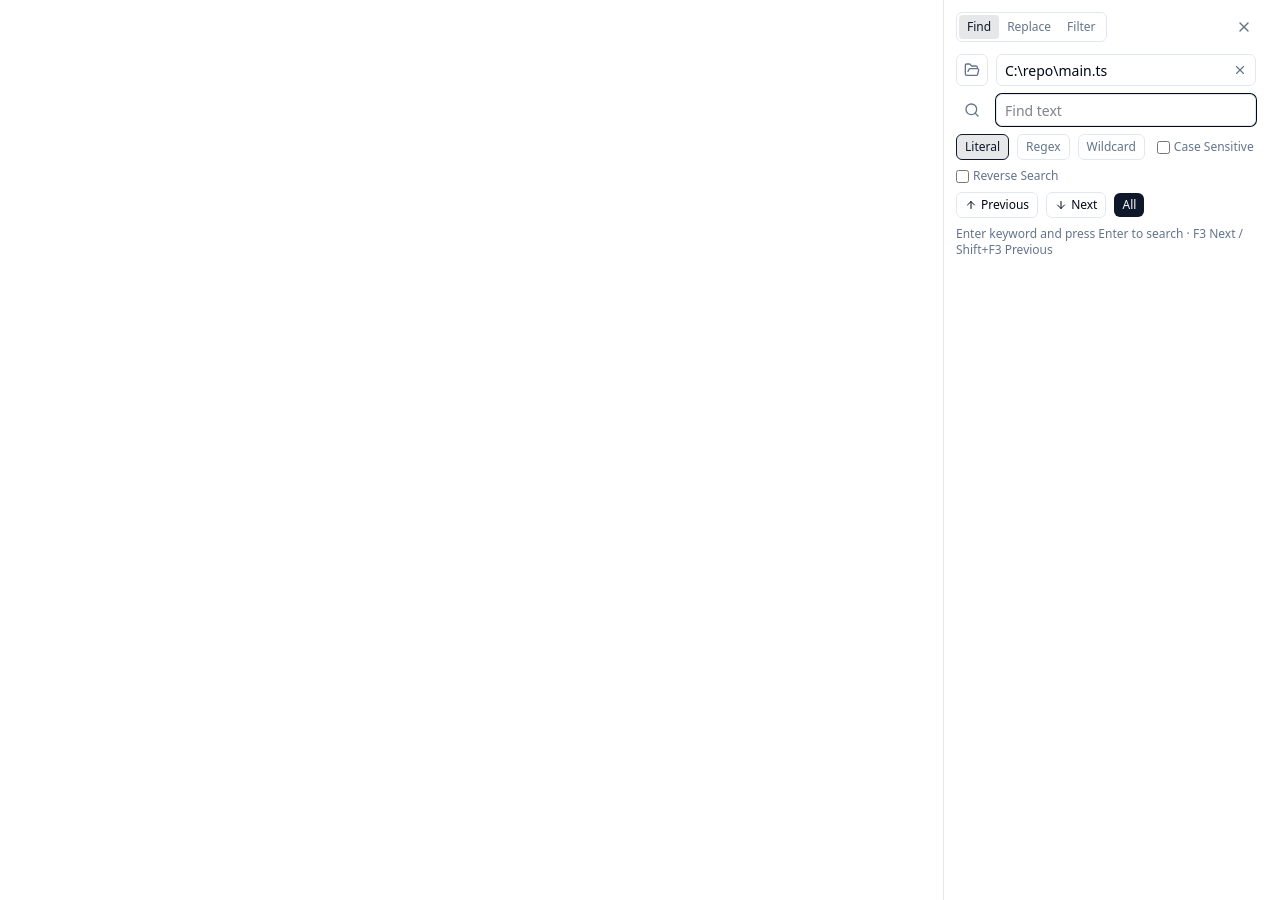
Test case: SearchReplacePanel › shows text-input context menu with only copy cut paste delete actions
Type "hello world" into the field with placeholder "Find text".
click(1126, 110); type("hello world")  # box top-left (996, 94), bottom-right (1256, 126)
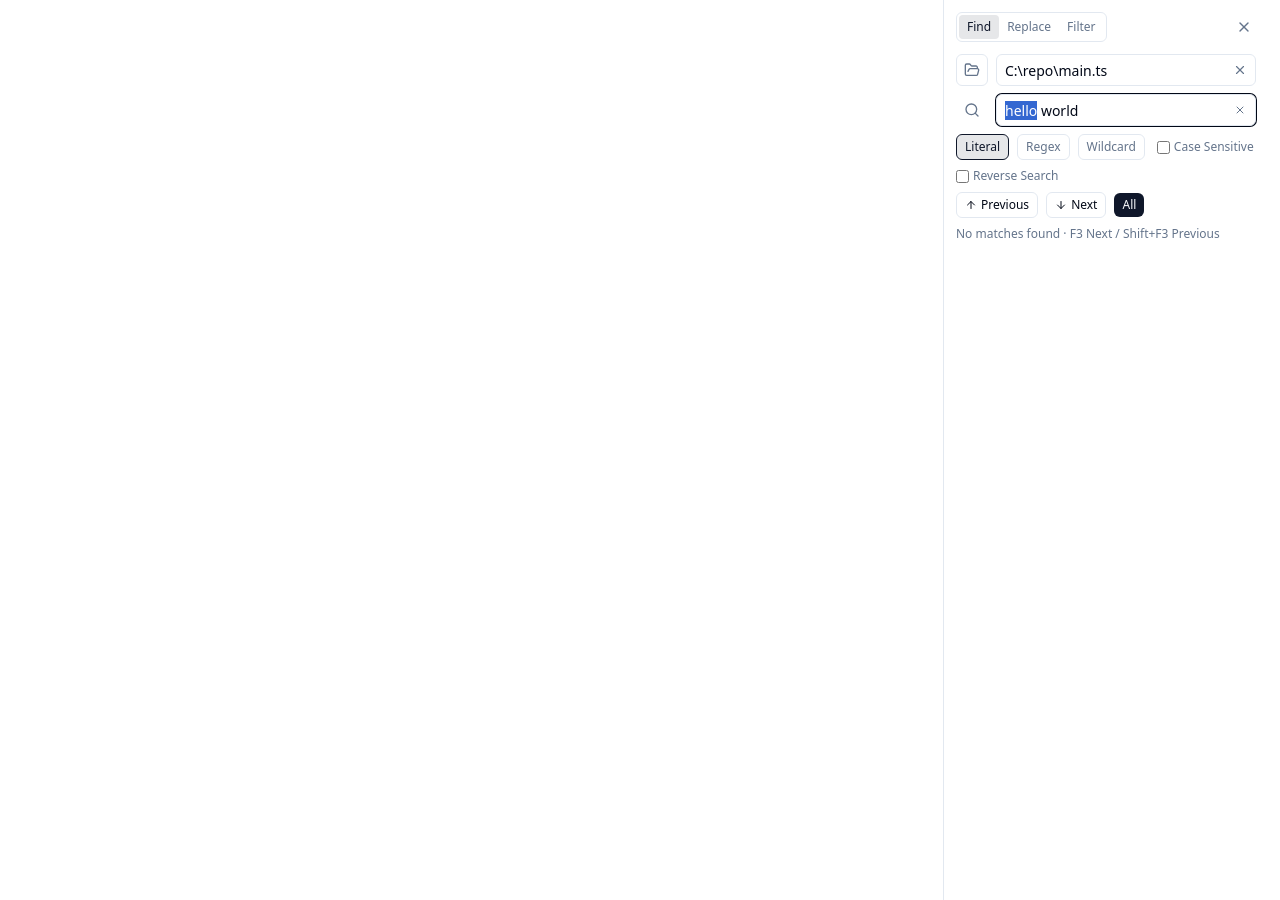
Right-click the field with placeholder "Find text".
right_click(1126, 110)  # box top-left (996, 94), bottom-right (1256, 126)
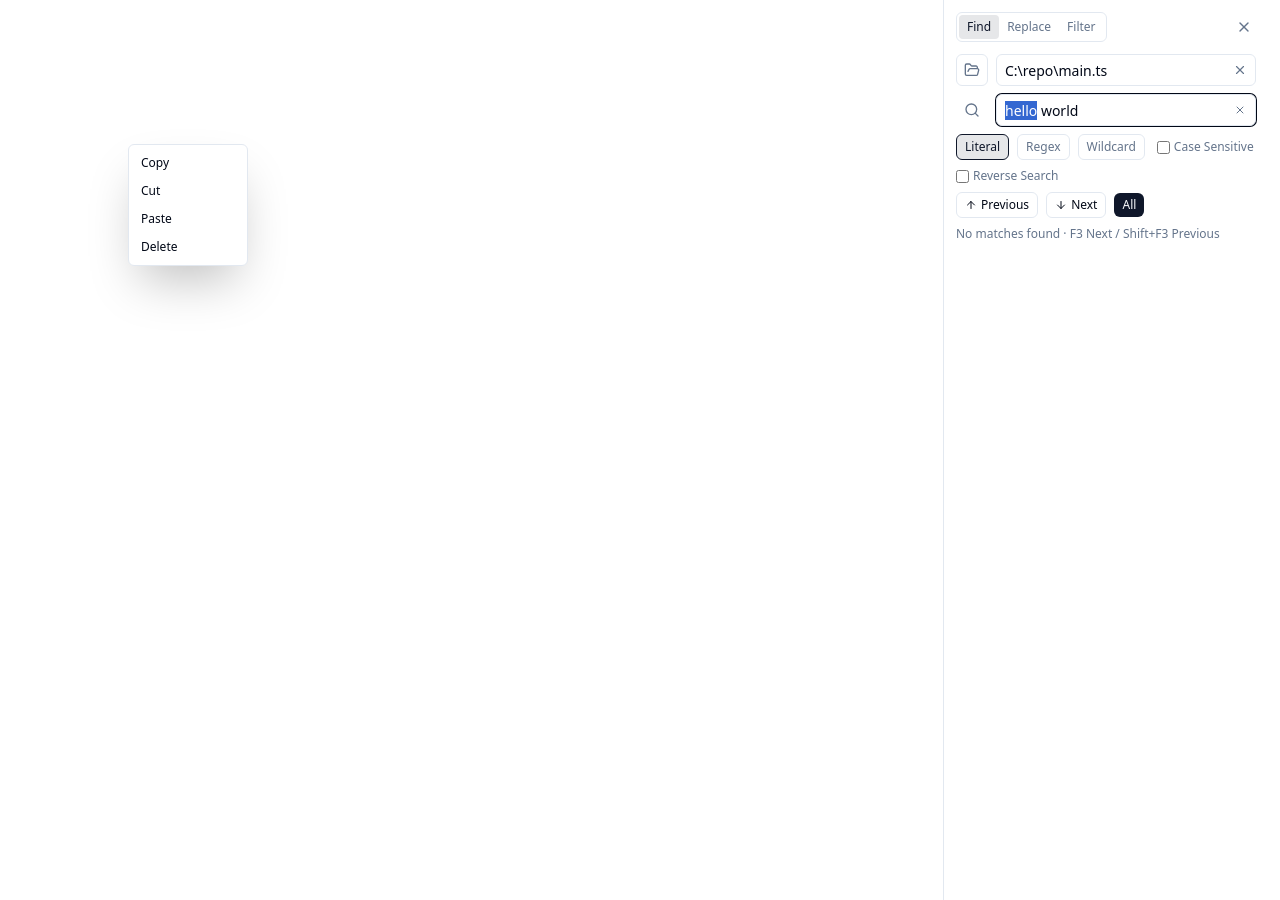
Now the number of menu items is 4, box top-left (133, 149), bottom-right (243, 177); top-left (133, 177), bottom-right (243, 205); top-left (133, 205), bottom-right (243, 233); top-left (133, 233), bottom-right (243, 261)
Now the menu items read "Copy", "Cut", "Paste", "Delete", in this order, box top-left (133, 149), bottom-right (243, 177); top-left (133, 177), bottom-right (243, 205); top-left (133, 205), bottom-right (243, 233); top-left (133, 233), bottom-right (243, 261)
